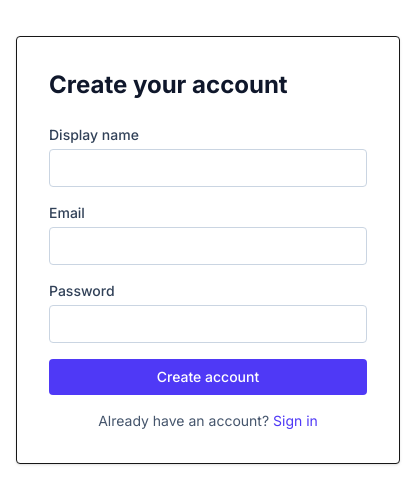
RegisterPage › shows display name required error and blocks submission when name is empty
Type "user@example.com" into the field labelled "Email" at (208, 246), box [49,227,367,265]
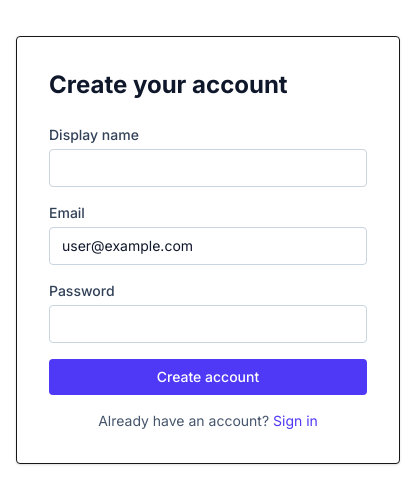
Type "password123" into the password field labelled "Password" at (208, 324), box [49,305,367,343]
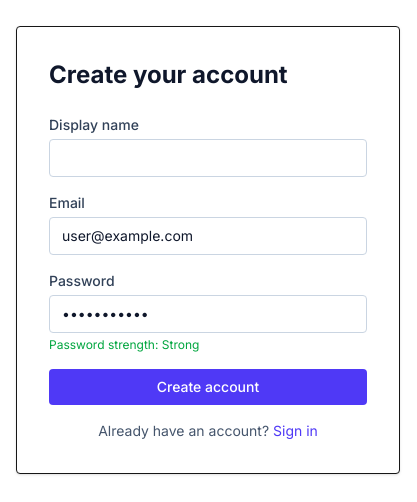
Click the button "Create account" at (208, 387), box [49,369,367,405]
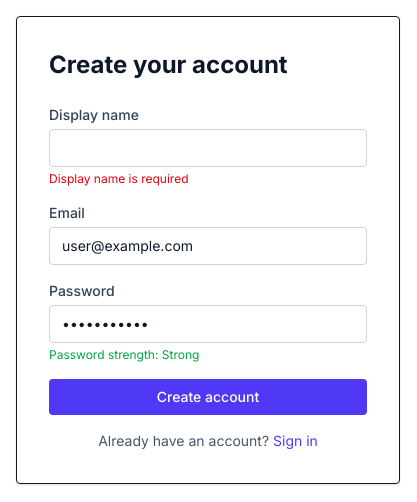
Now the text "Display name is required" is shown, box [49,171,188,186]
